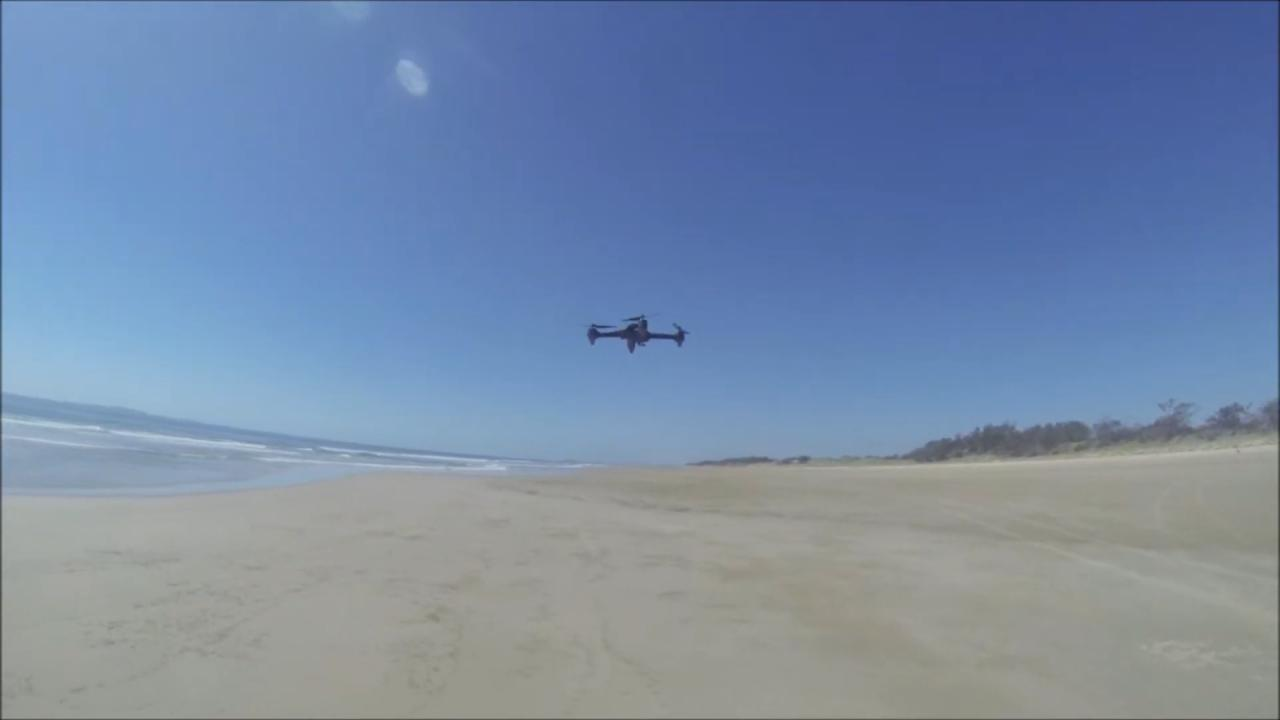Drone: (565, 298, 702, 369)
